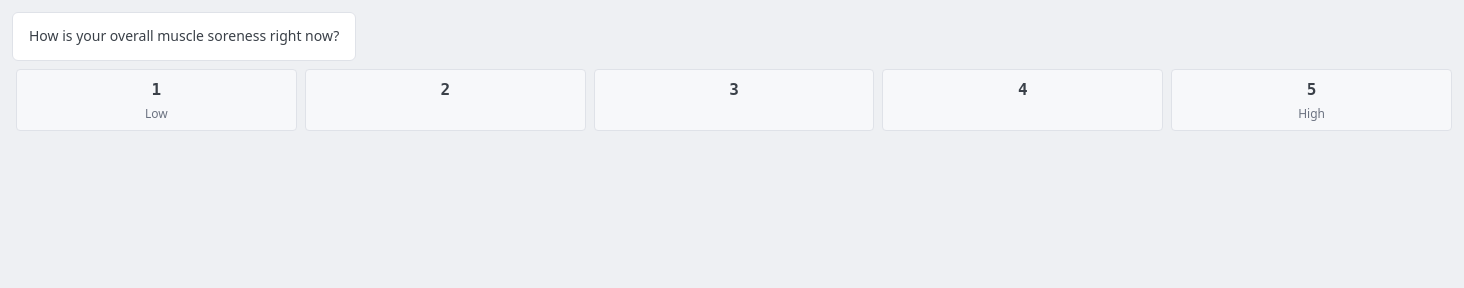
ConversationalHealthCheck › asks one question at a time, in fixed-then-adaptive order
The width and height of the screenshot is (1464, 288).
Check: the element with test id "question-muscle_soreness" is shown, box [12,12,356,61]
What coordinates should you click on to do the following:
click the button with test id "answer-muscle_soreness-2"
I would click on:
 (445, 100)
Its box is [305,69,586,131].
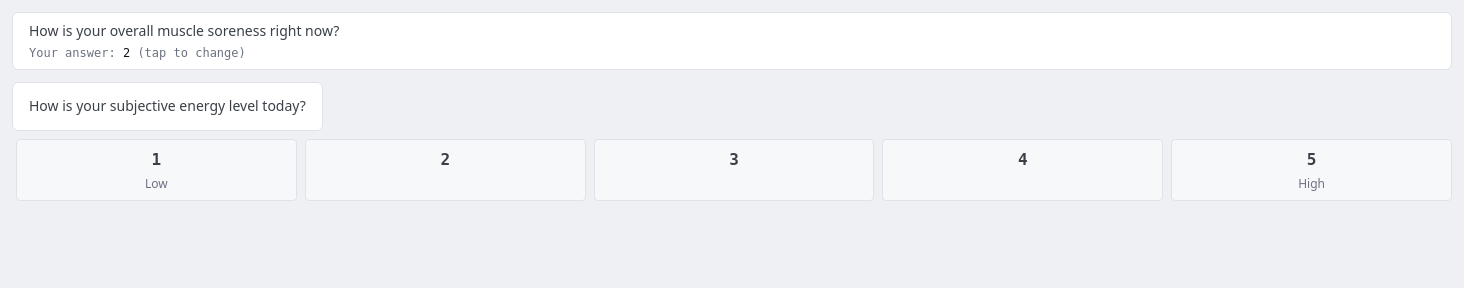
Check: the button with test id "collapsed-muscle_soreness" is shown, box [12,12,1452,70]
Check: the element with test id "question-subjective_energy" is shown, box [12,82,323,131]
What coordinates should you click on to do the following:
click the button with test id "answer-subjective_energy-4"
I would click on:
 (1023, 170)
Its box is [882,139,1163,201].
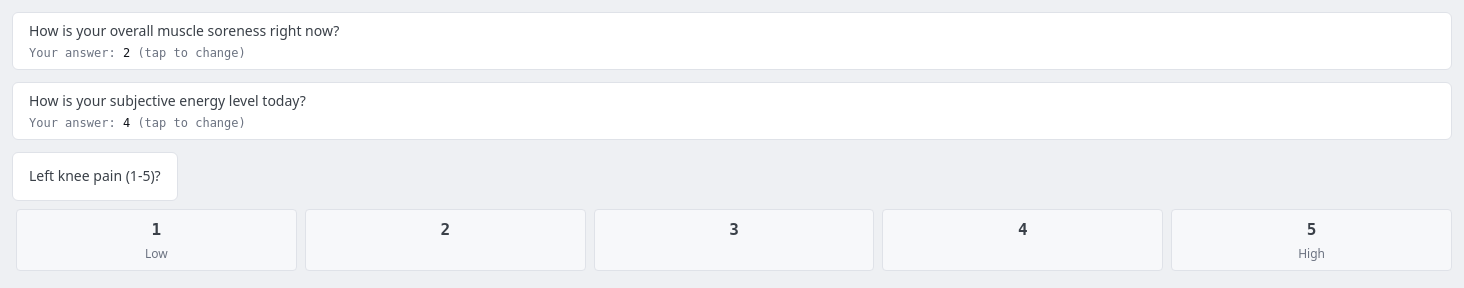
Check: the element with test id "question-left_knee_pain" is shown, box [12,152,178,201]
